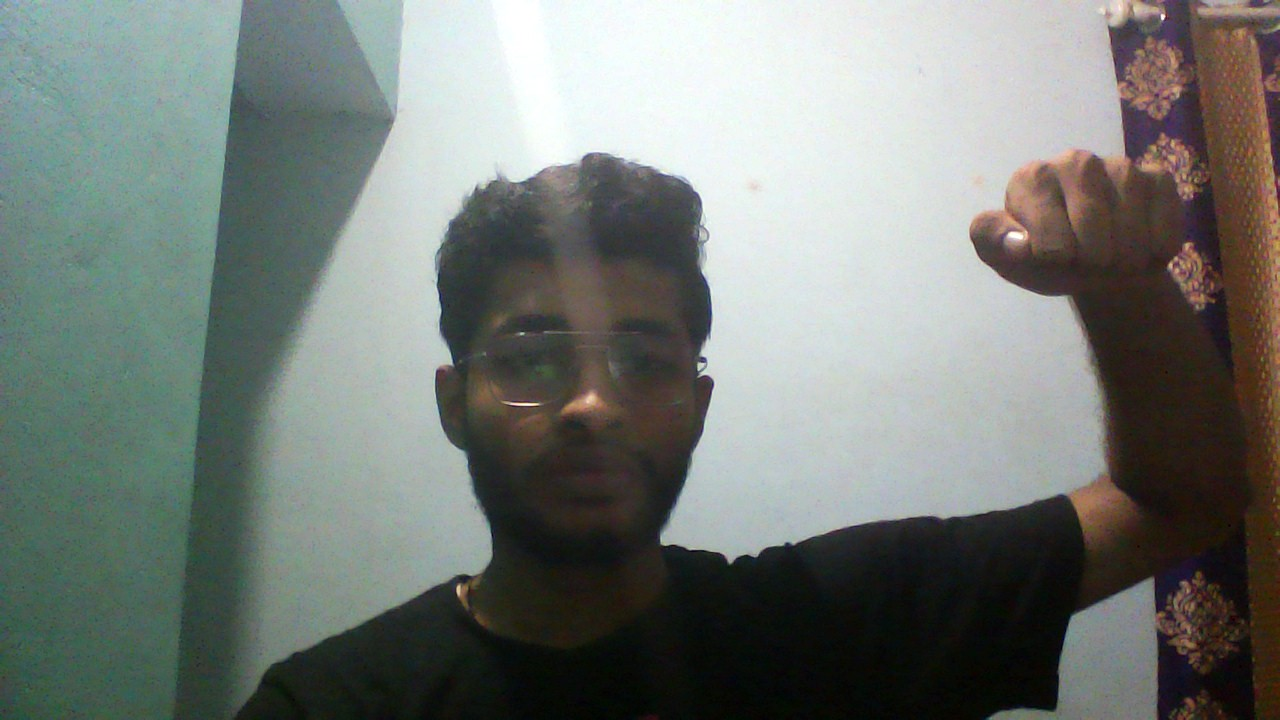Yes: (914, 96, 1232, 345)
